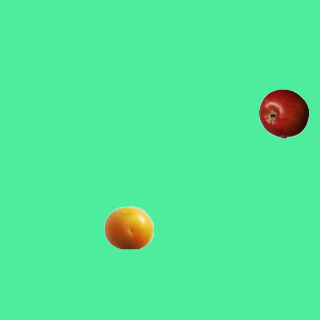Apple Braeburn: (258, 88, 308, 138)
Cherry Wax Yellow: (103, 202, 153, 252)
